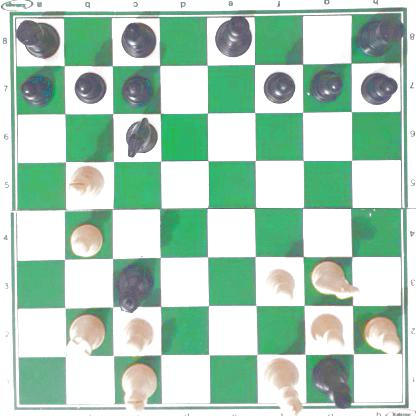black-bishop: (313, 357, 353, 408), (117, 21, 158, 58)
black-king: (212, 14, 253, 57)
black-knight: (123, 116, 158, 158)
black-pawn: (360, 69, 396, 105), (263, 68, 295, 103), (20, 71, 53, 104), (311, 67, 343, 101), (73, 70, 104, 104), (121, 71, 152, 105)
black-queen: (116, 260, 156, 316)
black-rook: (12, 16, 60, 58), (358, 14, 405, 55)
white-bishop: (120, 363, 157, 414), (66, 164, 104, 201)
white-king: (260, 357, 303, 416)
white-knight: (310, 259, 361, 300)
white-pawn: (309, 312, 346, 353), (363, 315, 400, 352), (120, 316, 154, 356), (262, 266, 297, 304), (68, 222, 103, 256)
white-rook: (65, 311, 105, 363)
